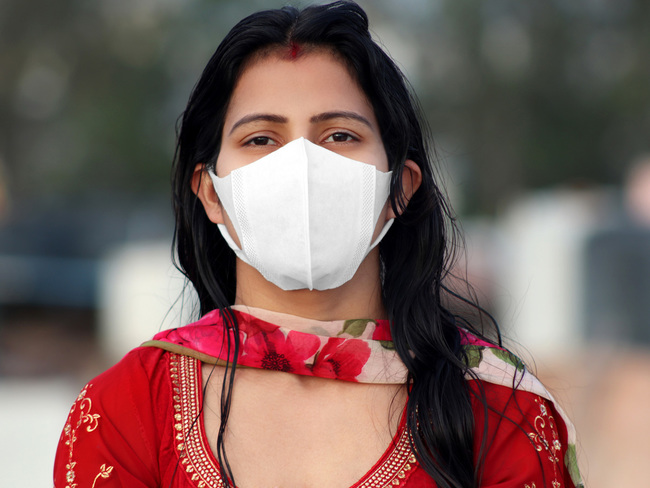with_mask: (228, 55, 375, 274)
